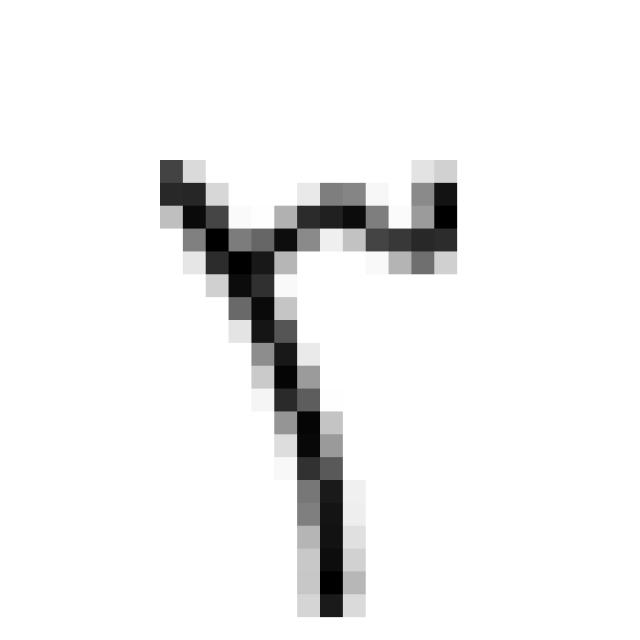3 -three-: (130, 116, 481, 640)
